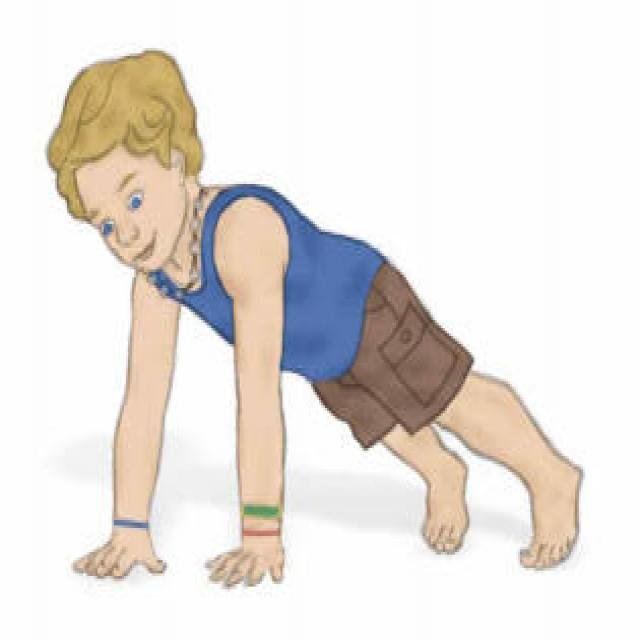yoga-pose plank: (45, 52, 585, 580)
